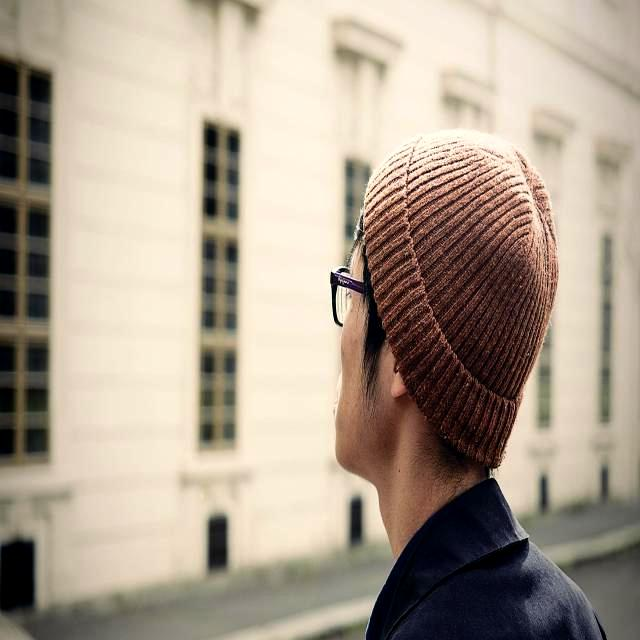no_hard_hat: (363, 132, 558, 469)
person: (336, 131, 606, 639)
